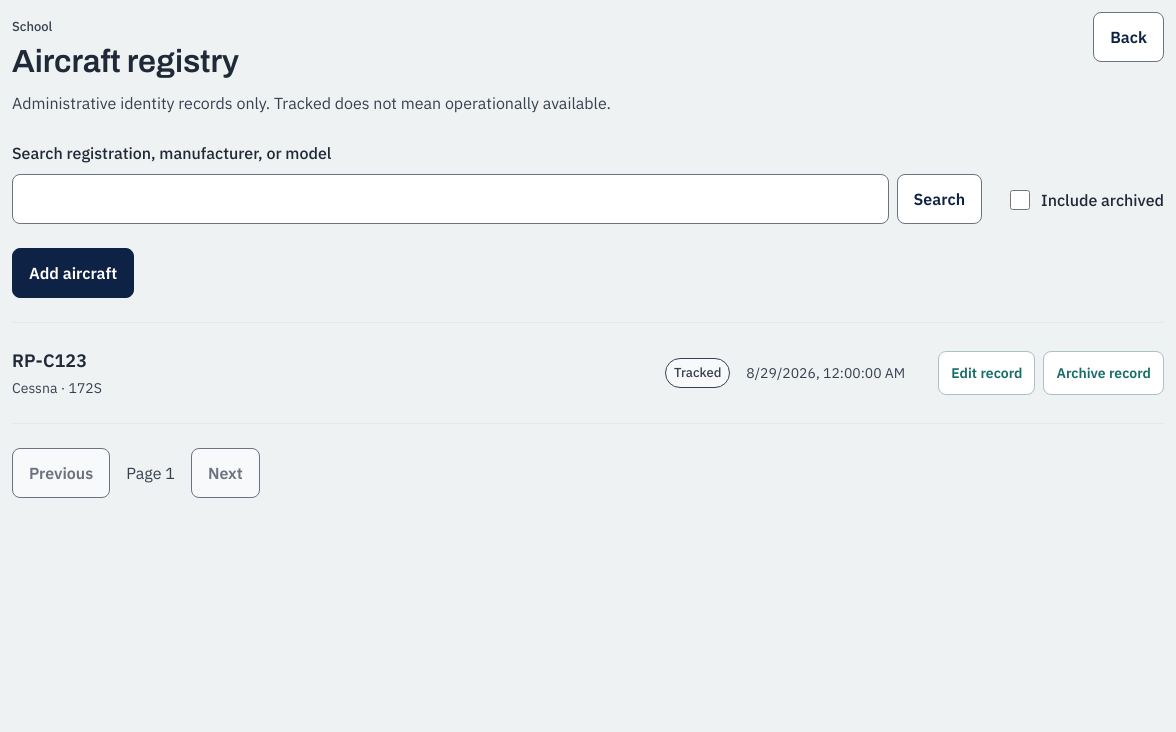
Test: AircraftRegistryPanel › ignores an older response after filter criteria changes
Expected: the text "RP-C123" is shown, [12,349,87,372]
Type "old" into the field labelled "Search registration, manufacturer, or model Search" at {"x": 450, "y": 199}, box [12,174,889,224]
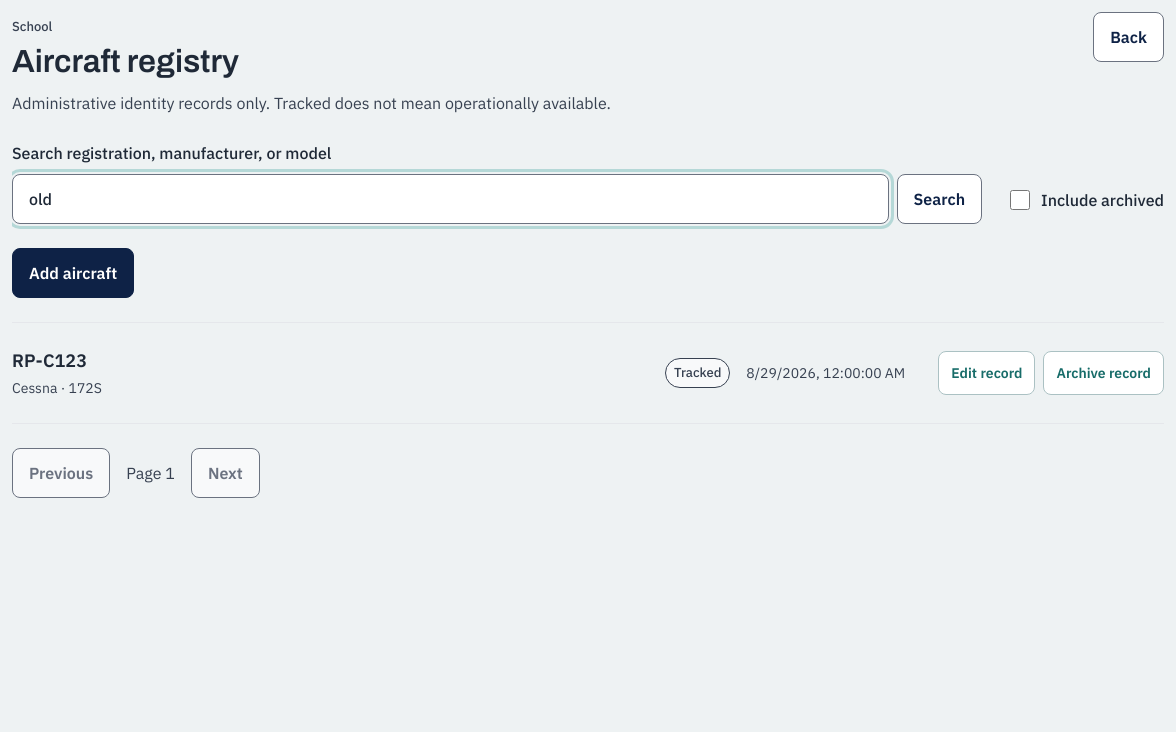
Click the button "Search" at {"x": 939, "y": 199}, box [897,174,982,224]
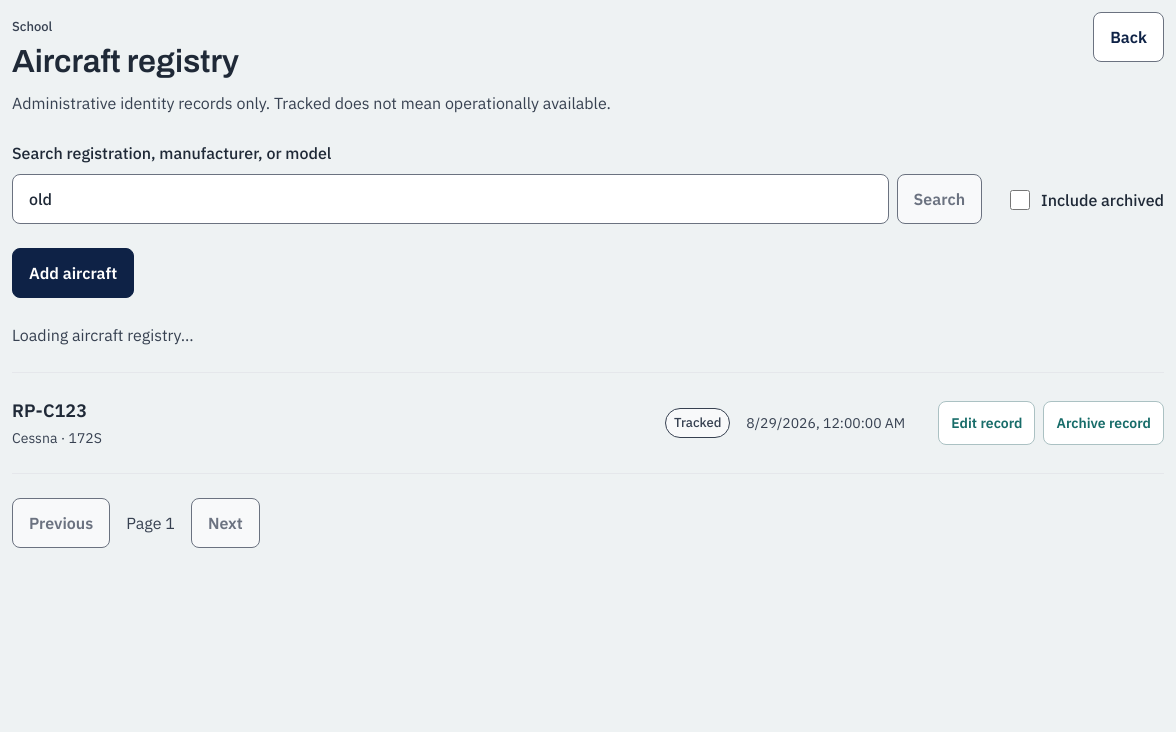
Click the checkbox labelled "Include archived" at {"x": 1020, "y": 200}, box [1010,190,1030,210]
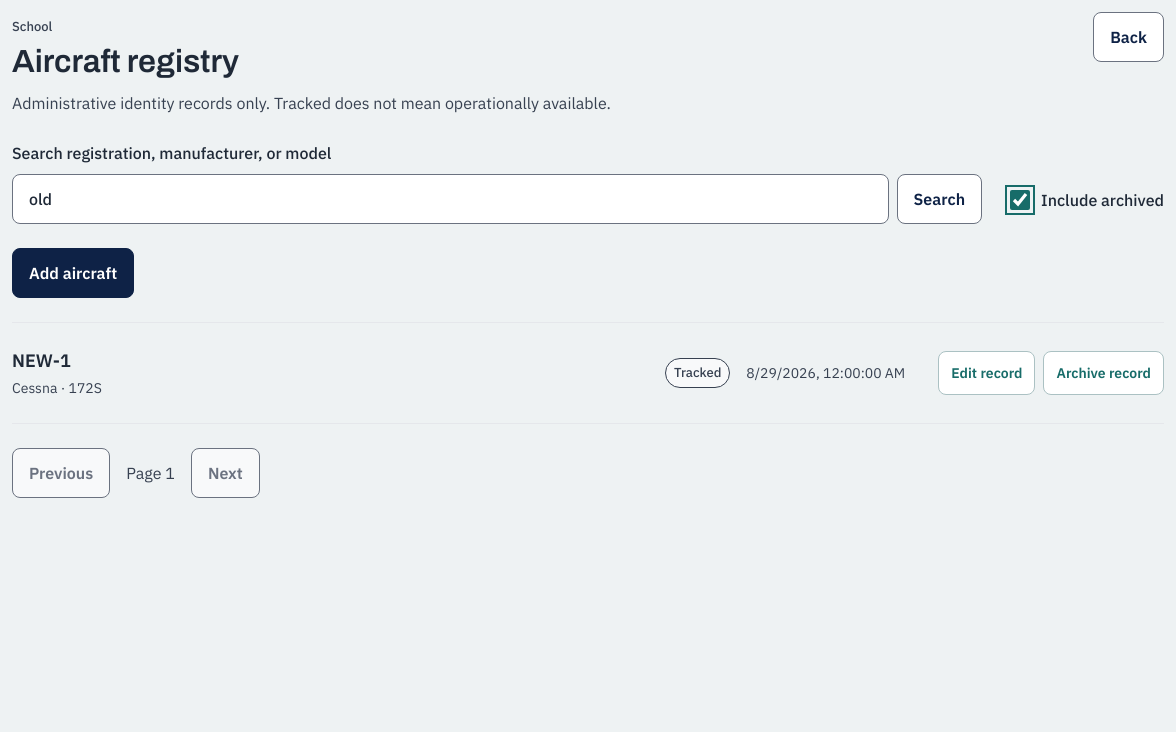
Now the checkbox labelled "Include archived" is checked, box [1010,190,1030,210]
Now the text "NEW-1" is shown, box [12,349,71,372]
